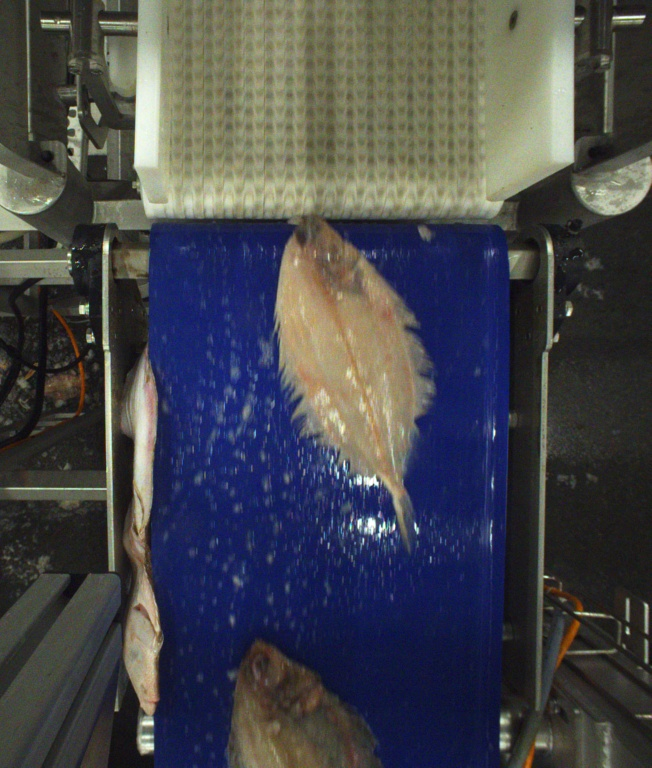WIT: (228, 641, 382, 767)
